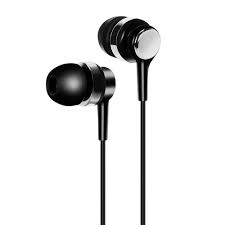earphone: (45, 7, 177, 205)
